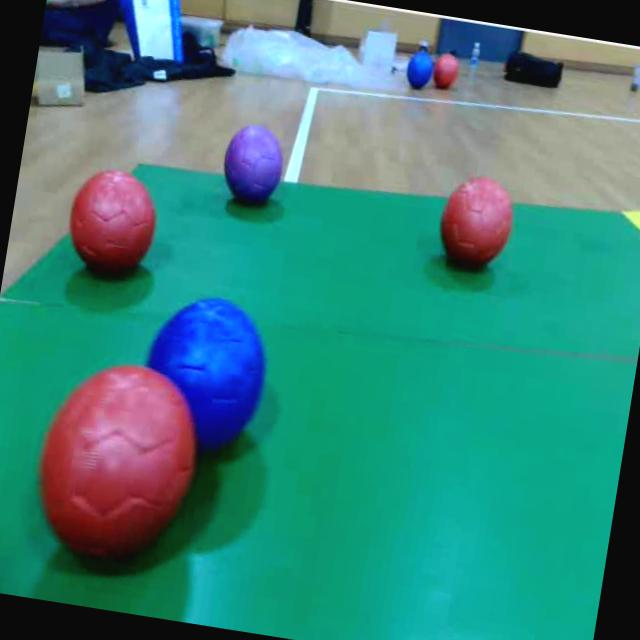blue_ball: (133, 290, 277, 460), (406, 50, 436, 90)
purple_ball: (220, 121, 288, 210)
red_ball: (30, 353, 209, 568), (59, 162, 163, 278), (436, 174, 517, 275), (434, 55, 460, 90)
